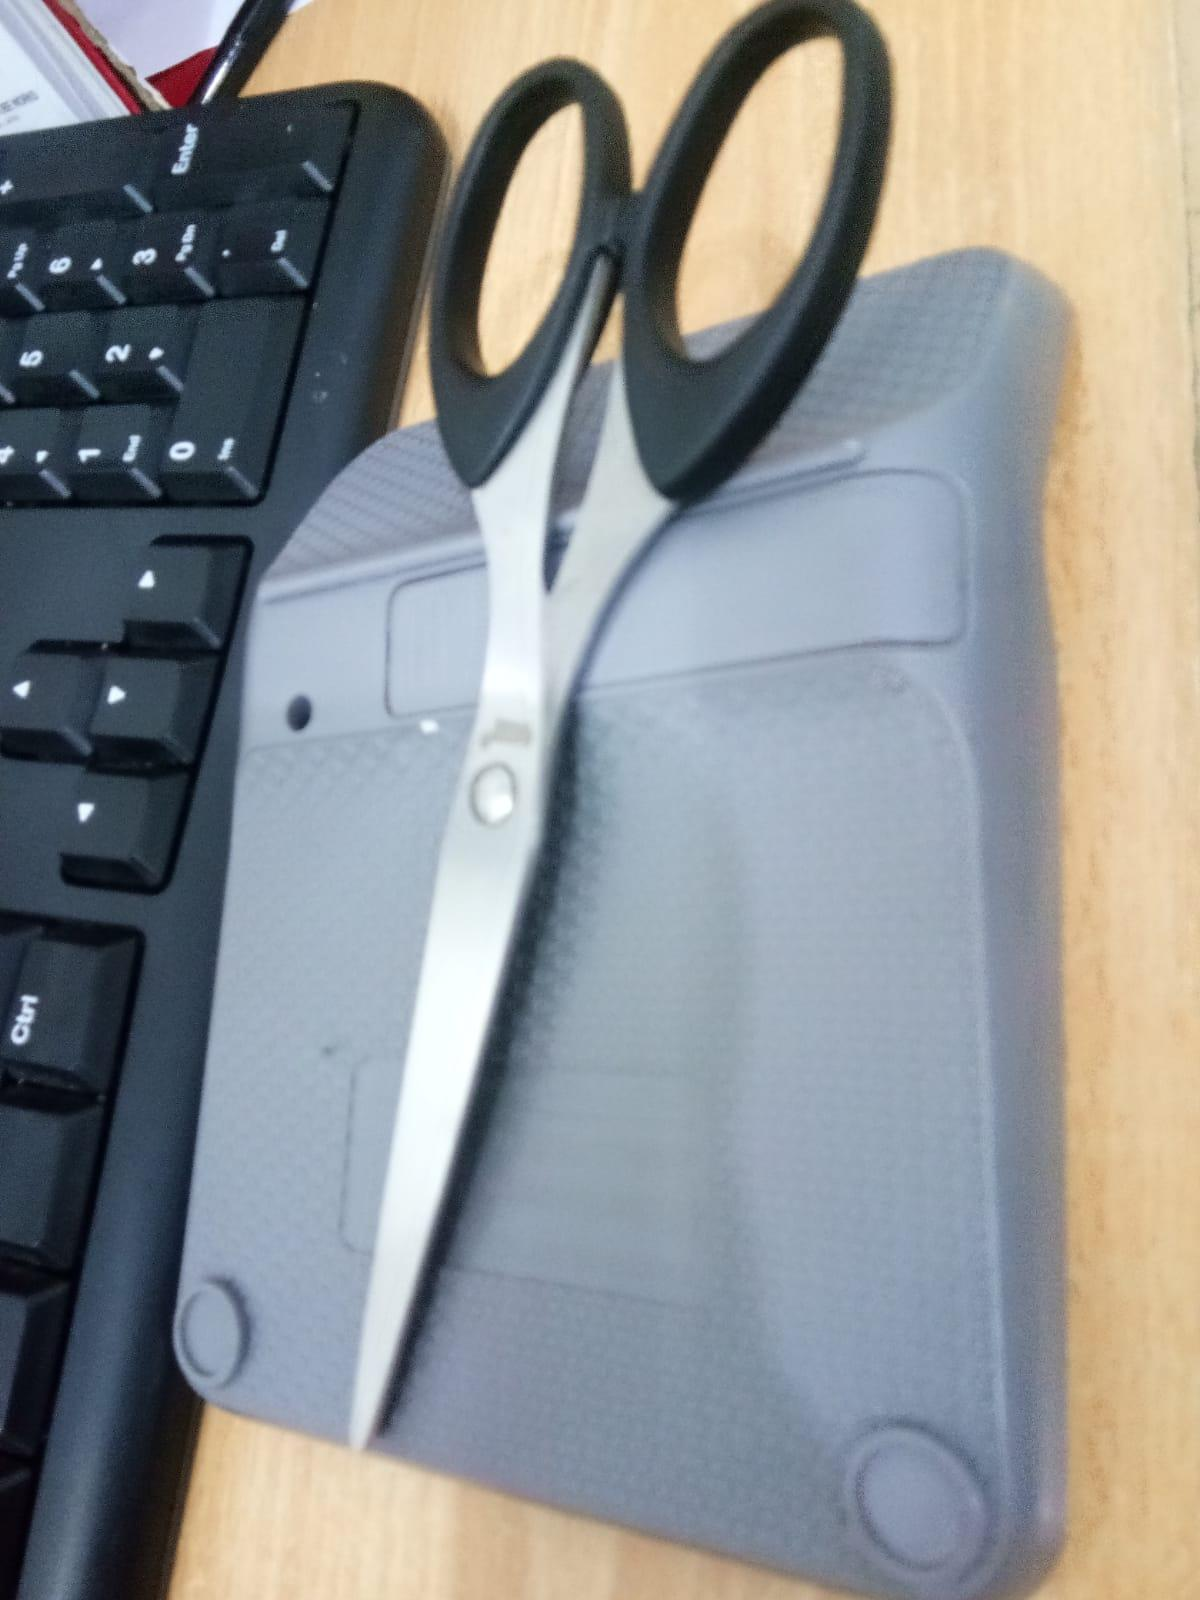scissors: (349, 0, 895, 1455)
